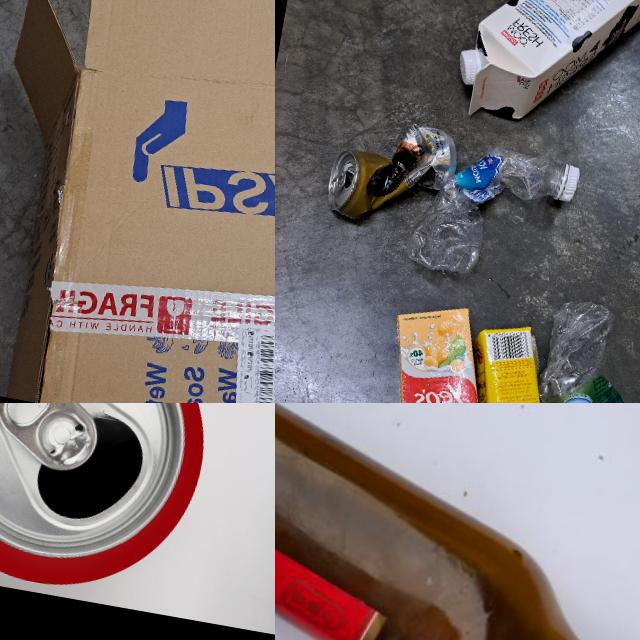aba de lata: (0, 403, 106, 474), (328, 170, 346, 197)
caixinha: (462, 0, 640, 146), (366, 295, 518, 403), (446, 317, 590, 403)
garrafa de vidro: (275, 403, 640, 640)
garrafa plástica: (404, 132, 564, 288), (521, 295, 640, 403)
lata: (0, 403, 202, 577), (322, 110, 461, 234)
papelão: (0, 0, 275, 403)
tampa plástica: (558, 164, 581, 204)
